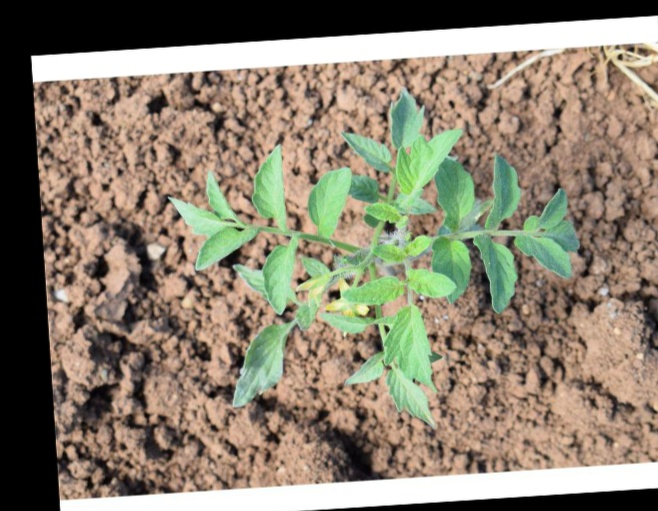tomato: (171, 91, 576, 428)
